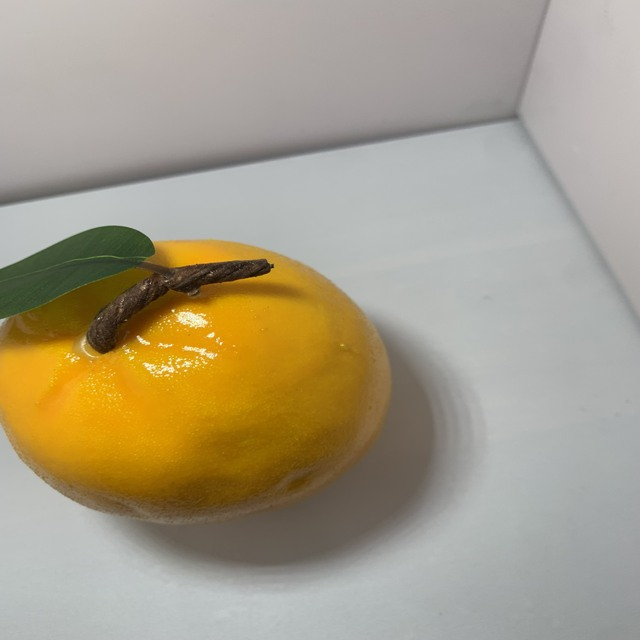Cam vang: (5, 231, 400, 528)
